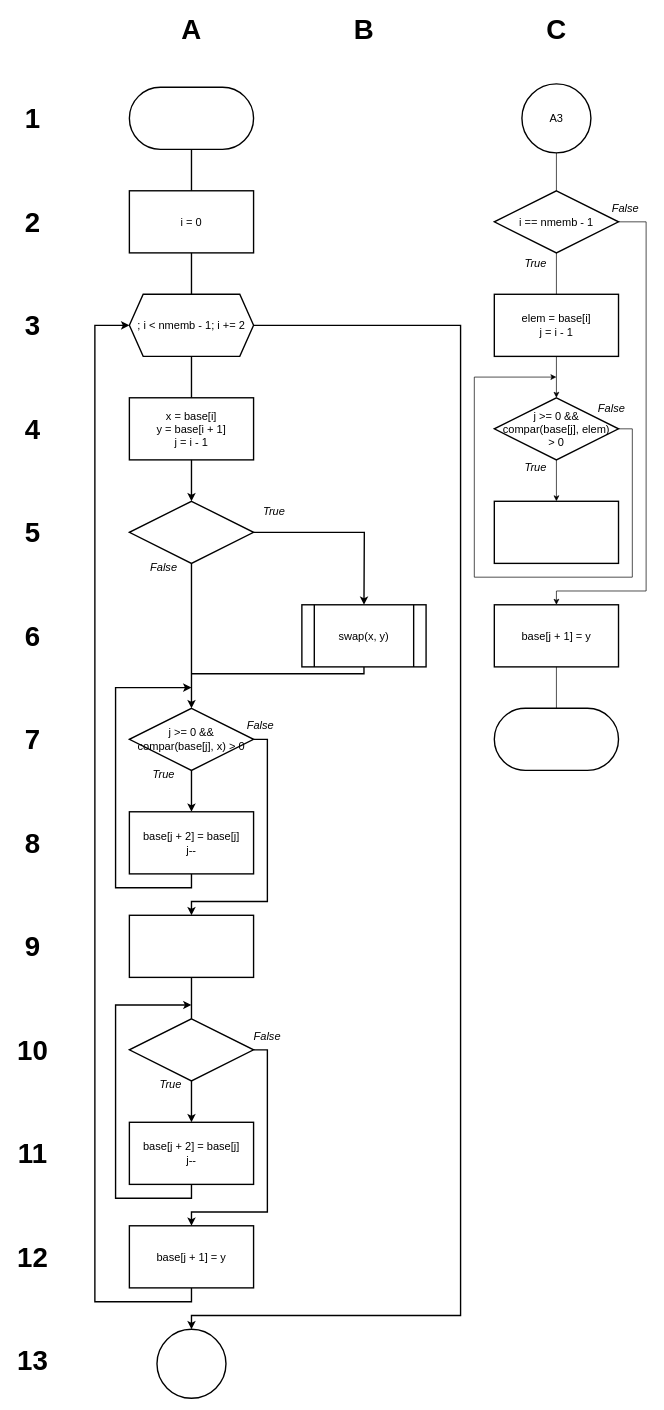
Image size: 664x1410. Some labels were removed from this diagram. The box of each missing label's shape, as (x1, y1, x2, y2) in pixels:
base[j + 1] = base[j] j--: (493, 500, 619, 564)
base[j + 2] = x: (128, 914, 254, 978)
C2: (156, 1328, 226, 1399)
compar(x, y) < 0: (128, 500, 254, 564)
j >= 0 && compar(base[j], y) > 0: (128, 1018, 254, 1081)
PairInsertion(base, nmemb, size, compar()): (128, 86, 254, 150)
return: (493, 707, 619, 771)
